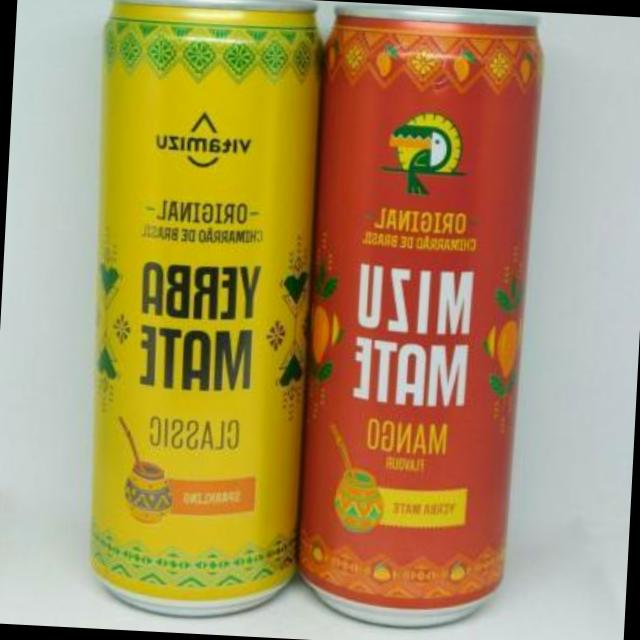metal: (301, 6, 542, 622), (94, 0, 321, 612)
